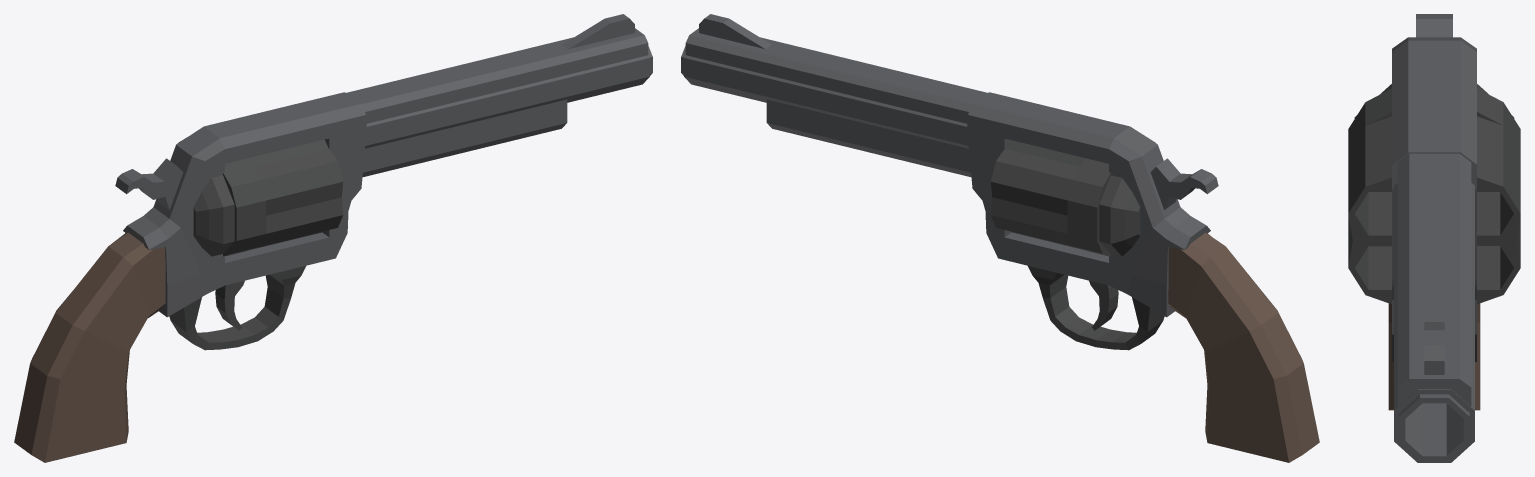
The model's file is Revolver.glb.
3 views of the same model, side by side, from view 1: azimuth 30°, elevation 25°; view 2: azimuth 150°, elevation 25°; view 3: azimuth 270°, elevation 25° (orthographic). The views are drawn at different scales.
Visible parts, largest first — view 1: Revolver_1; view 2: Revolver_1; view 3: Revolver_1.
Boxes of the visible parts, x1,y1,x2,y2 form: Revolver_1: [14, 14, 652, 462]; Revolver_1: [681, 14, 1319, 462]; Revolver_1: [1348, 14, 1520, 462].
Size of the model in its own units: 1.98 by 0.8898 by 0.2944.
